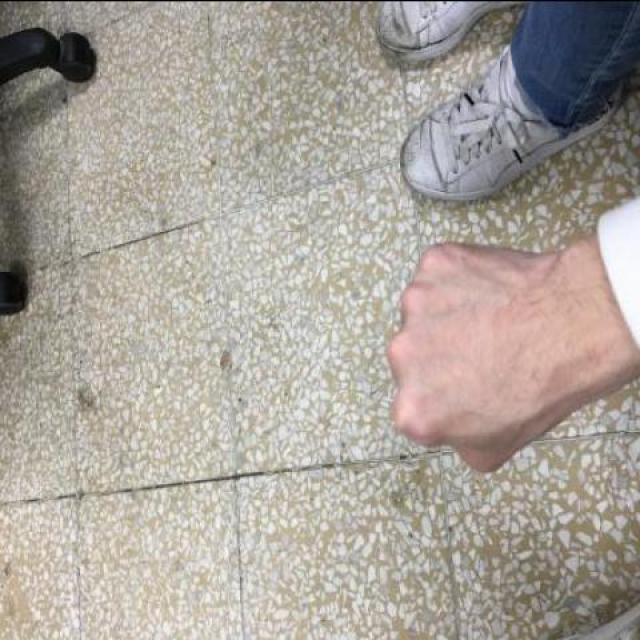Closed Hand: (387, 214, 630, 490)
